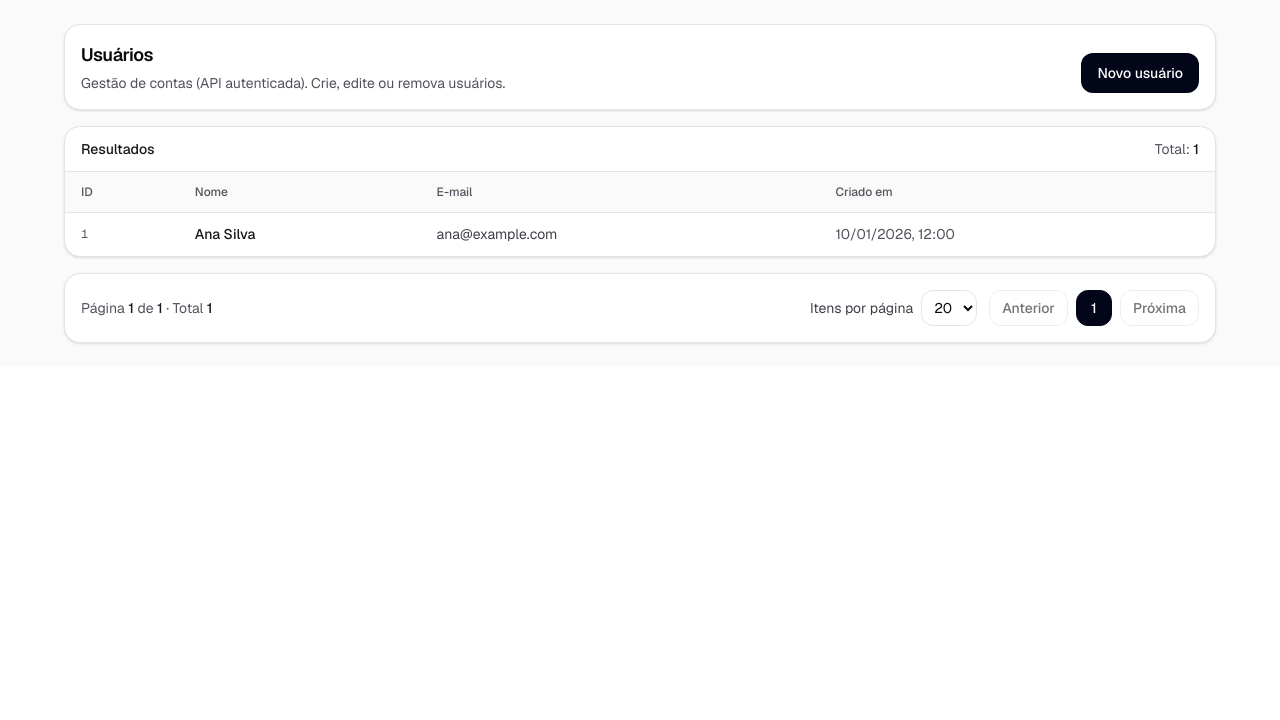
Scenario: UsersPage (UI) › deve criar usuário e atualizar a lista
expect the text "Ana Silva" is shown: met, box [179,212,421,256]
Click the button "Novo usuário" at (1140, 73), box [1081,53,1199,93]
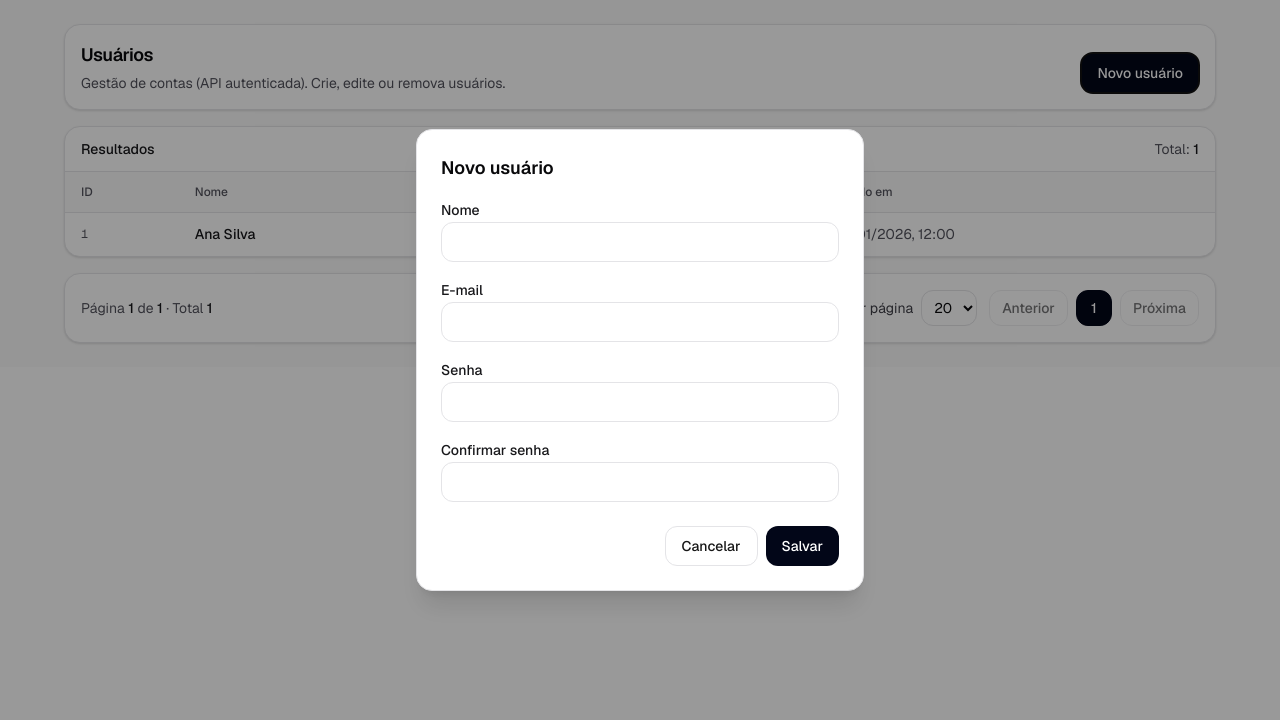
Type "Bob Costa" into the field labelled "Nome" at (640, 242), box [441,222,839,262]
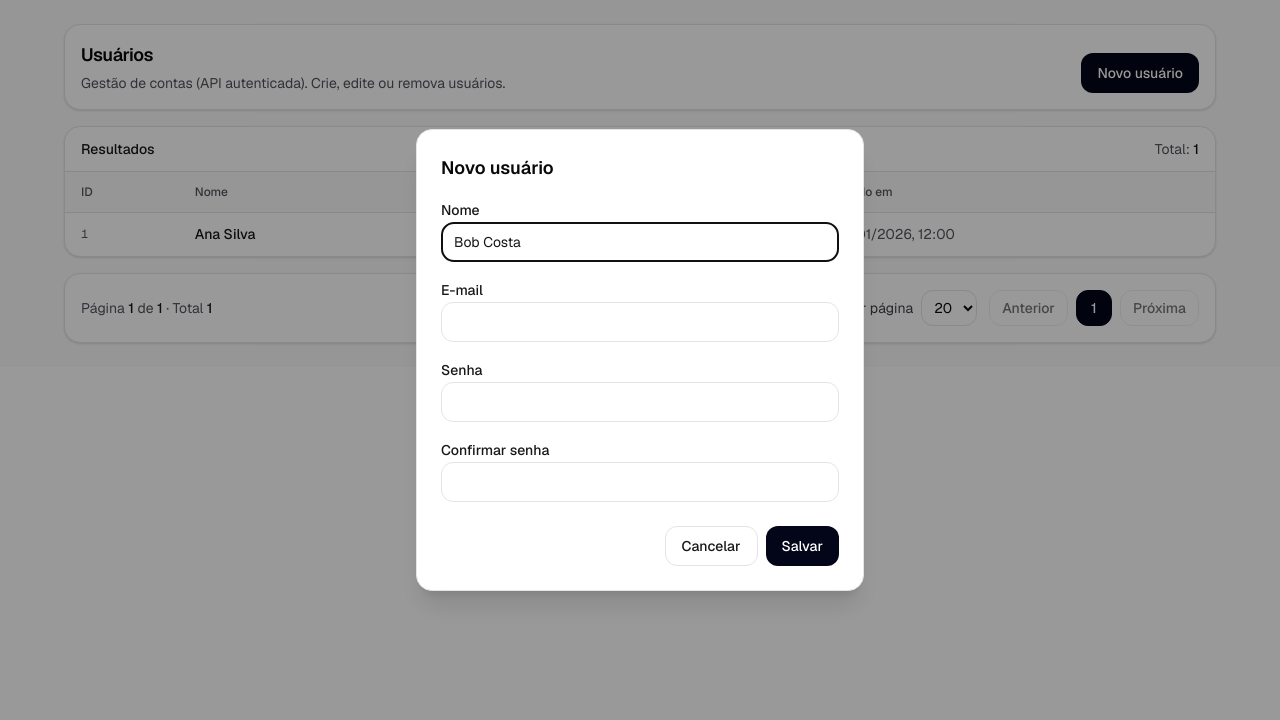
Type "bob@example.com" into the field labelled "E-mail" at (640, 322), box [441,302,839,342]
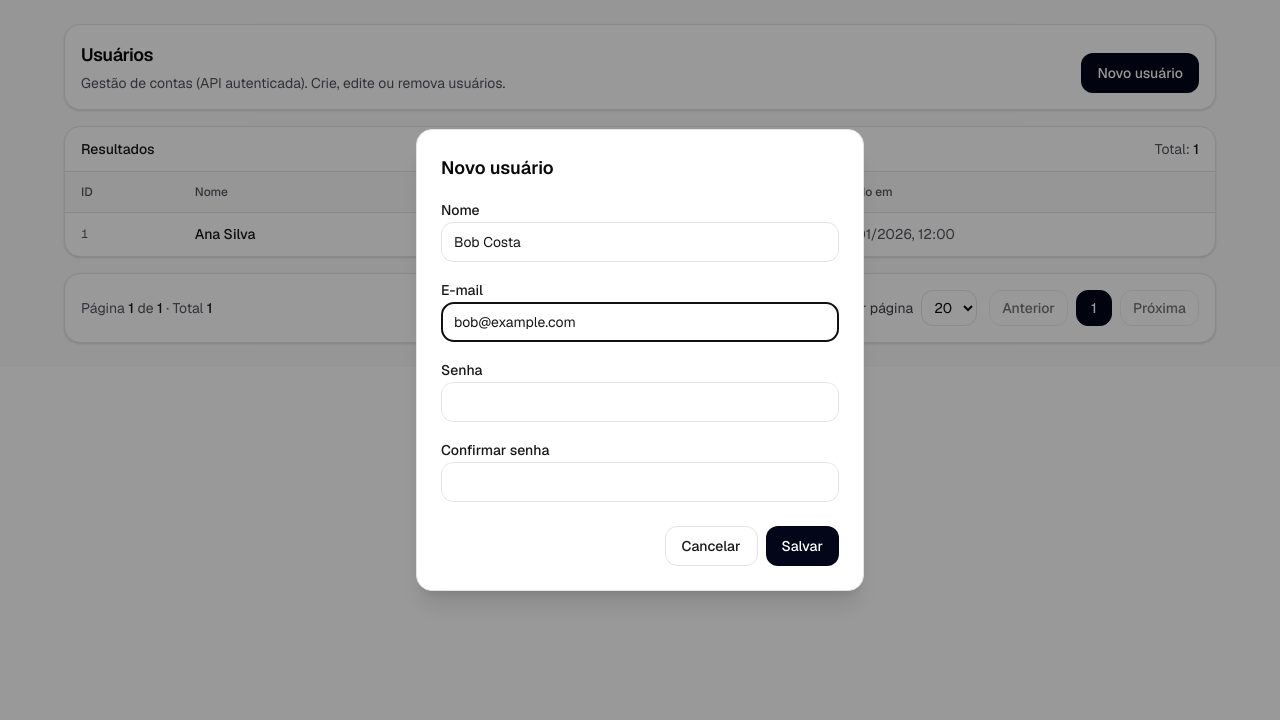
Type "secret123" into the password field labelled "Senha" at (640, 402), box [441,382,839,422]
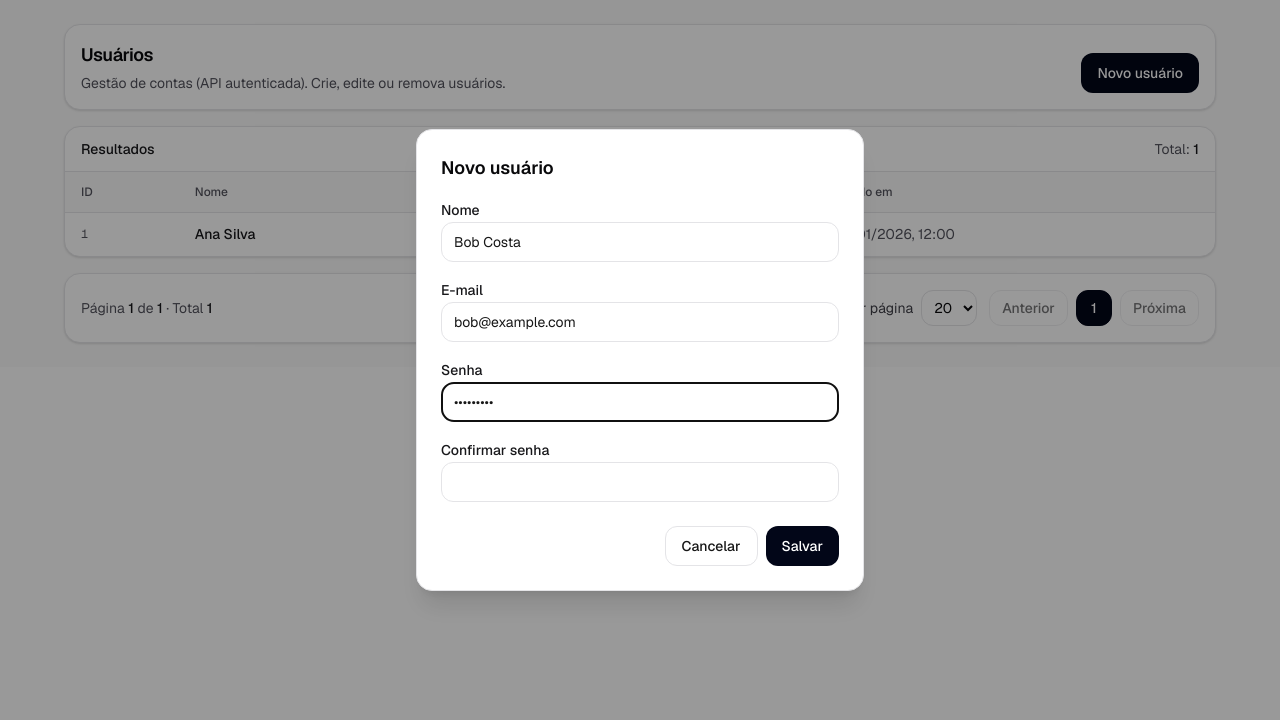
Type "secret123" into the password field labelled "Confirmar senha" at (640, 482), box [441,462,839,502]
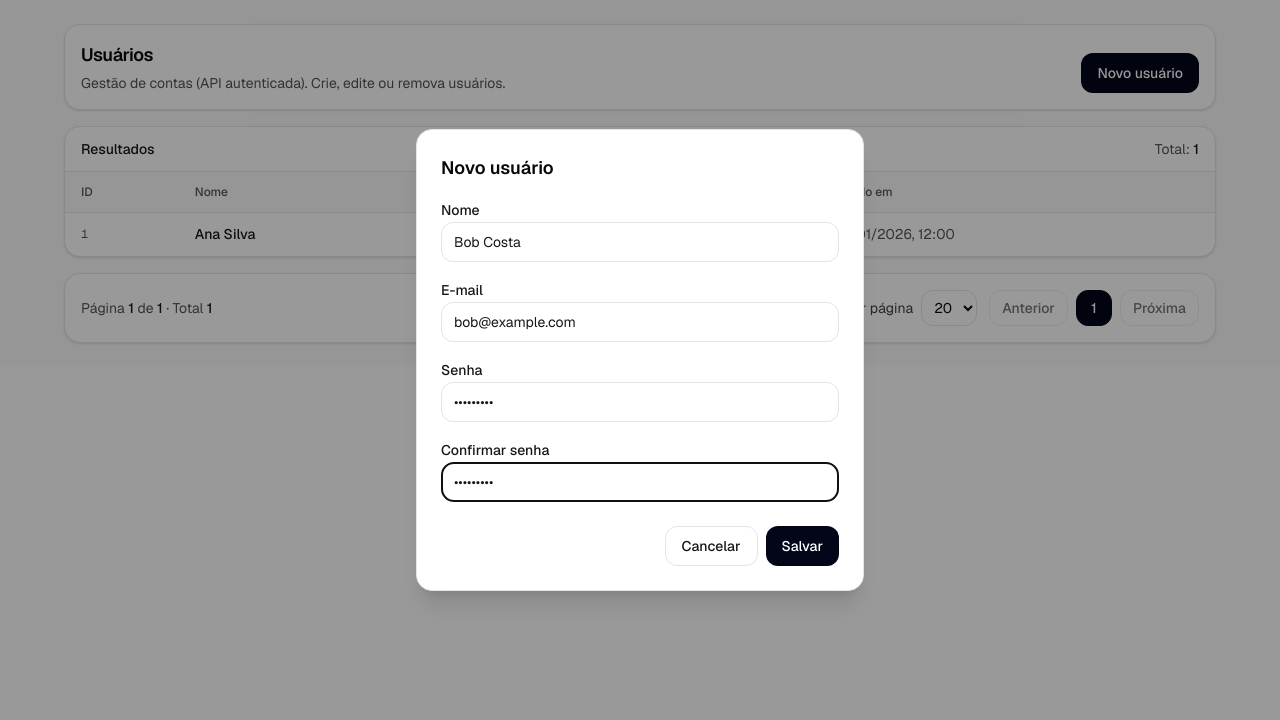
Click the button "Salvar" at (802, 546), box [766,526,839,566]
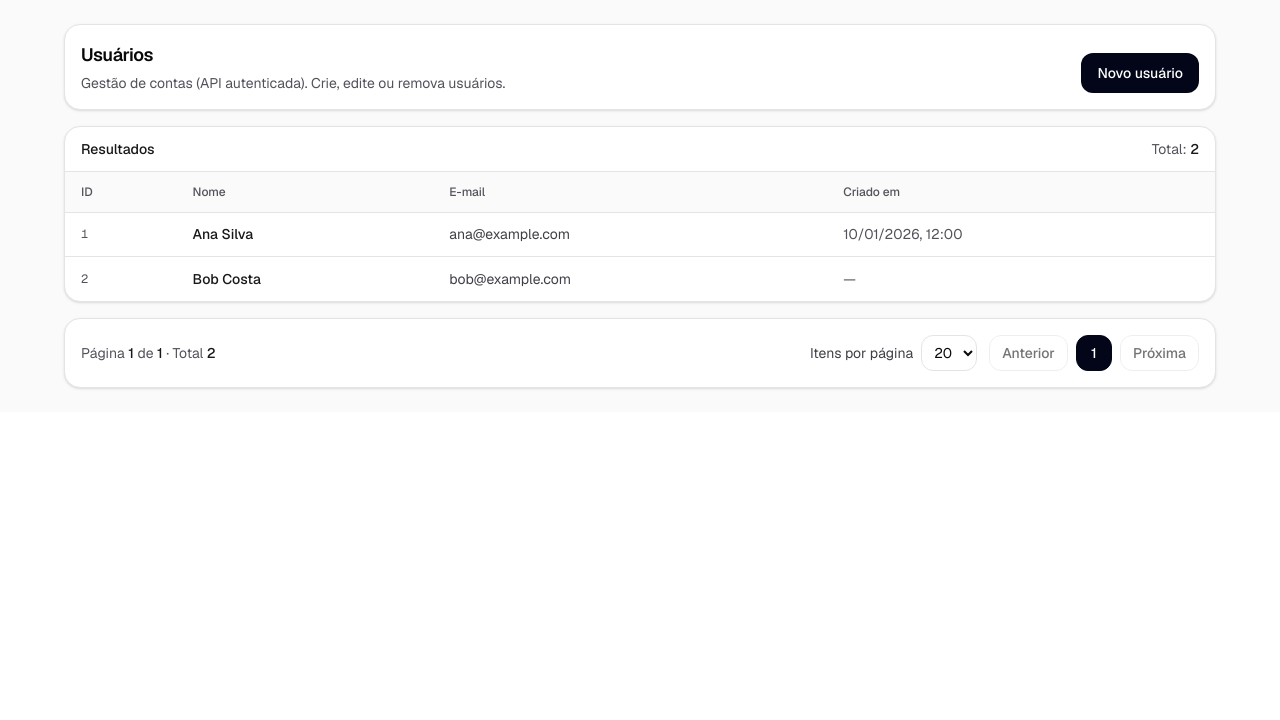
expect the text "Bob Costa" is shown: met, box [177,256,433,301]
expect the cell "bob@example.com" is shown: met, box [433,256,827,301]
